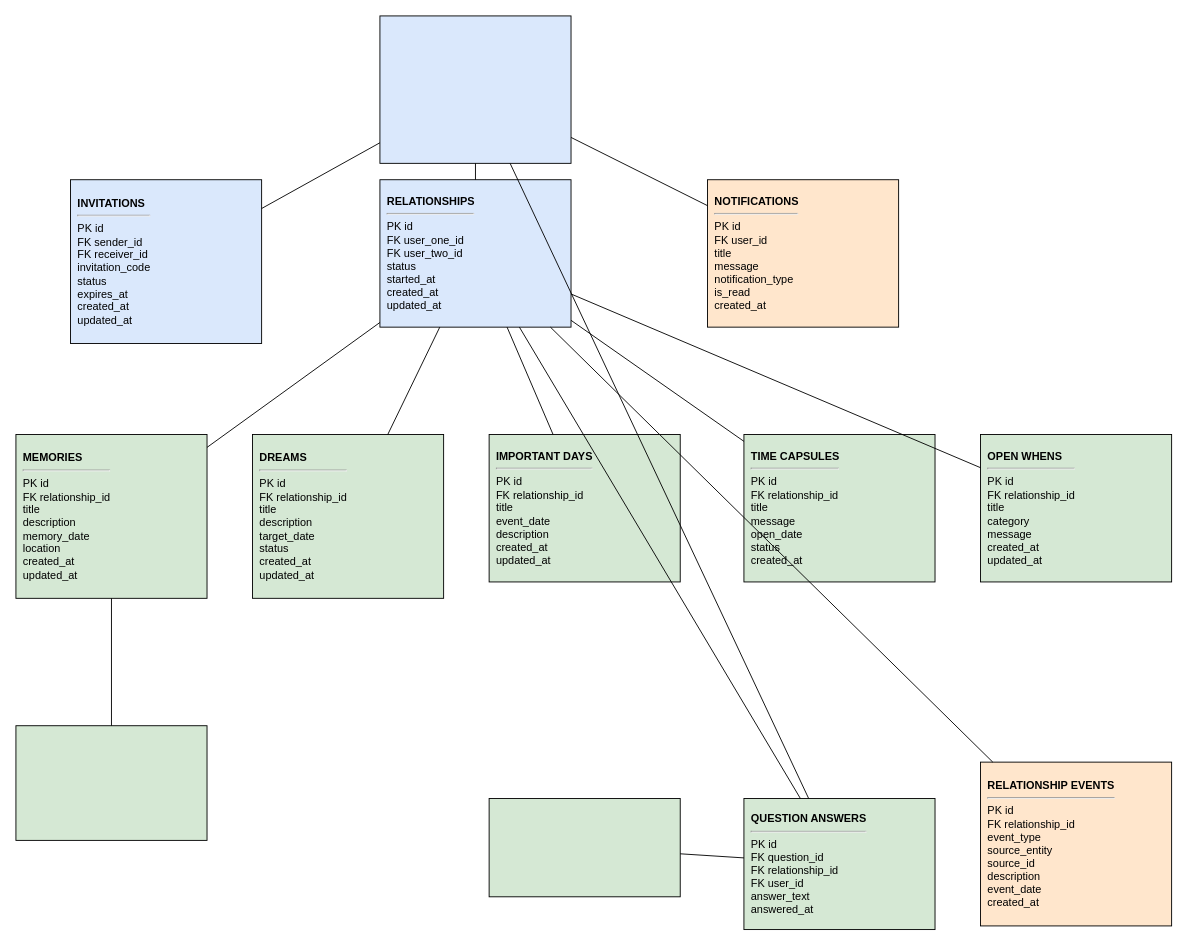
Image size: 1188x945. Some labels were removed from this diagram. Here are the shapes that lost their labels. From the top down, the centre of each, then its label:
the point at 475,89: USERS PK id full_name email password profile_picture created_at updated_at
the point at 111,782: MEMORY MEDIA PK id FK memory_id file_url media_type uploaded_at
the point at 584,847: QUESTIONS PK id question_text is_active created_at
